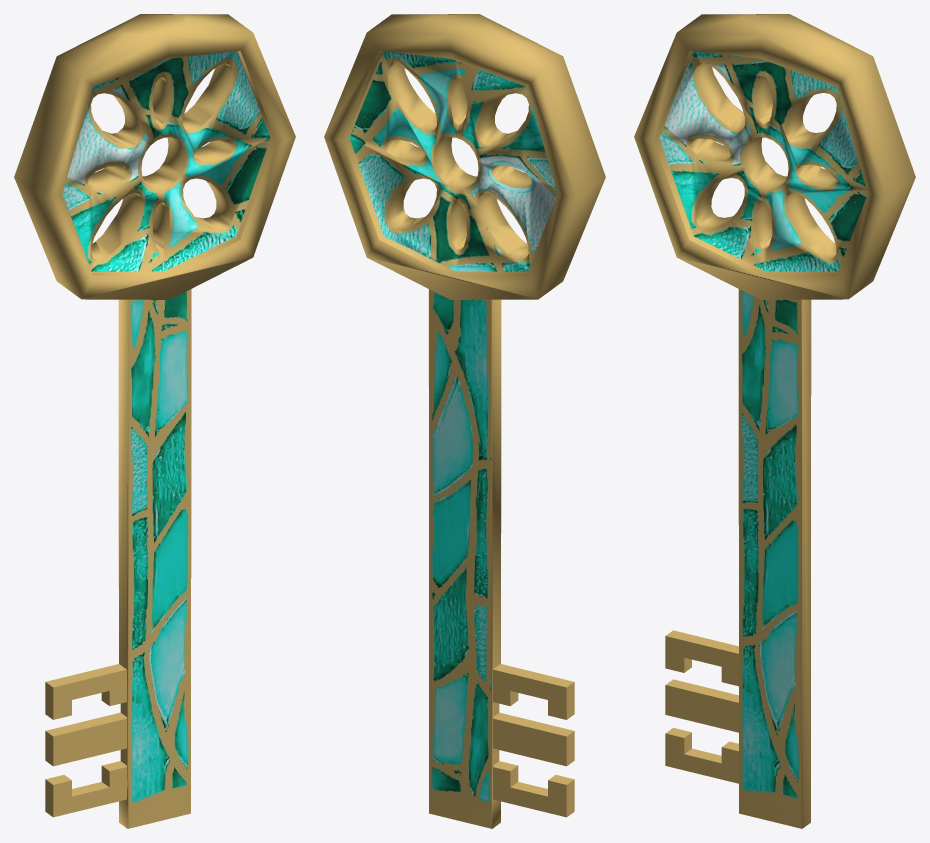
File: key03Compressed.glb
3 renders of one model, left to right at view 1: azimuth 30°, elevation 25°; view 2: azimuth 150°, elevation 25°; view 3: azimuth 330°, elevation 25°, orthographic.
Parts seen in each view (by area): view 1: key03; view 2: key03; view 3: key03.
Boxes of the visible parts, <box> form: key03: <box>14,14,295,828</box>; key03: <box>324,14,605,828</box>; key03: <box>634,14,915,828</box>.
Bounding box in the file's own units: 0.25 × 0.75 × 0.05.
2 materials, 1 textured.
